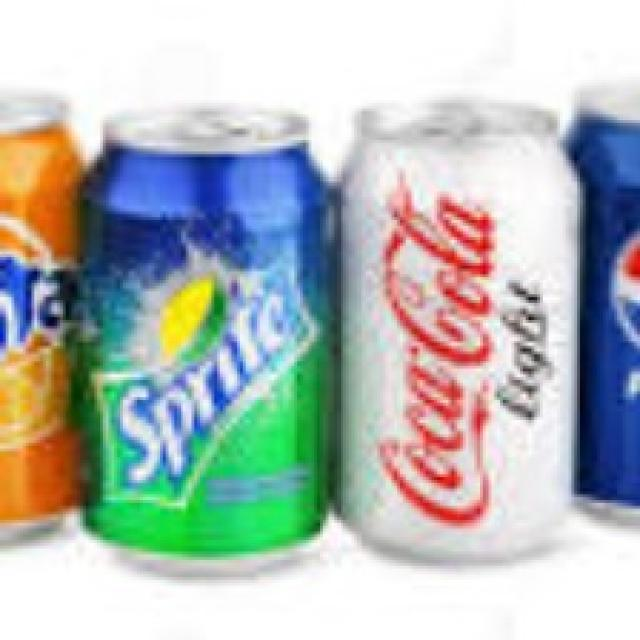metel: (83, 70, 329, 571), (343, 61, 579, 559)
